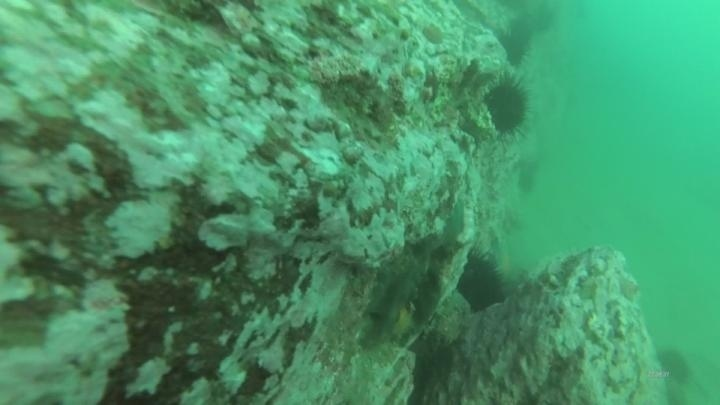echinus: (479, 72, 535, 139), (454, 249, 508, 315), (654, 345, 694, 386), (493, 28, 532, 69)
starfish: (487, 234, 526, 290)
